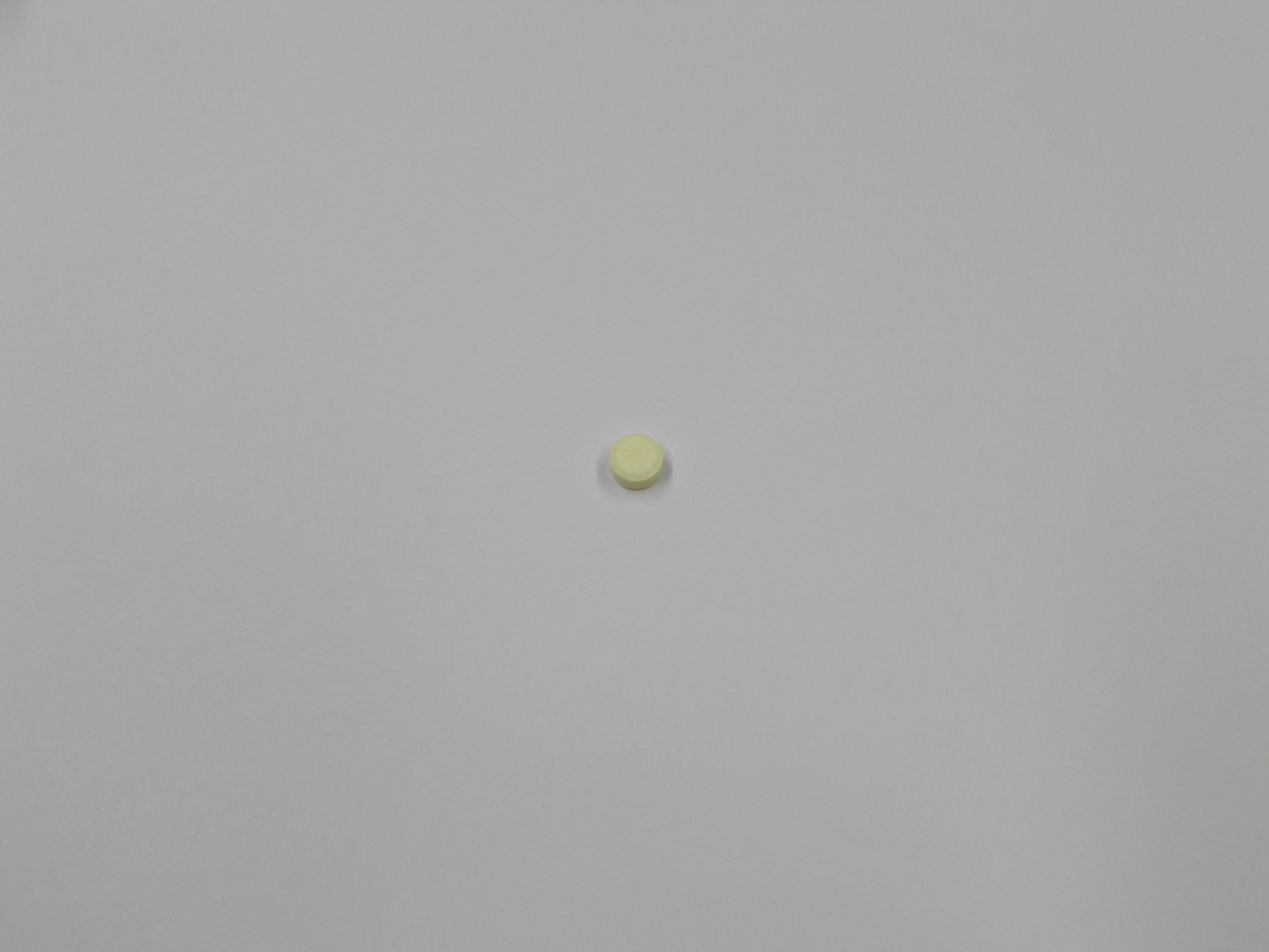Pill: (600, 428, 674, 497)
